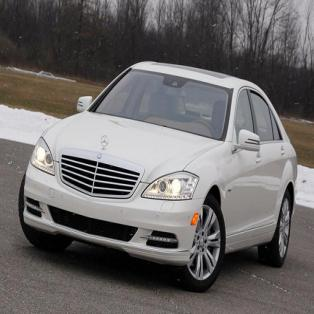Auto: (17, 60, 298, 293)
